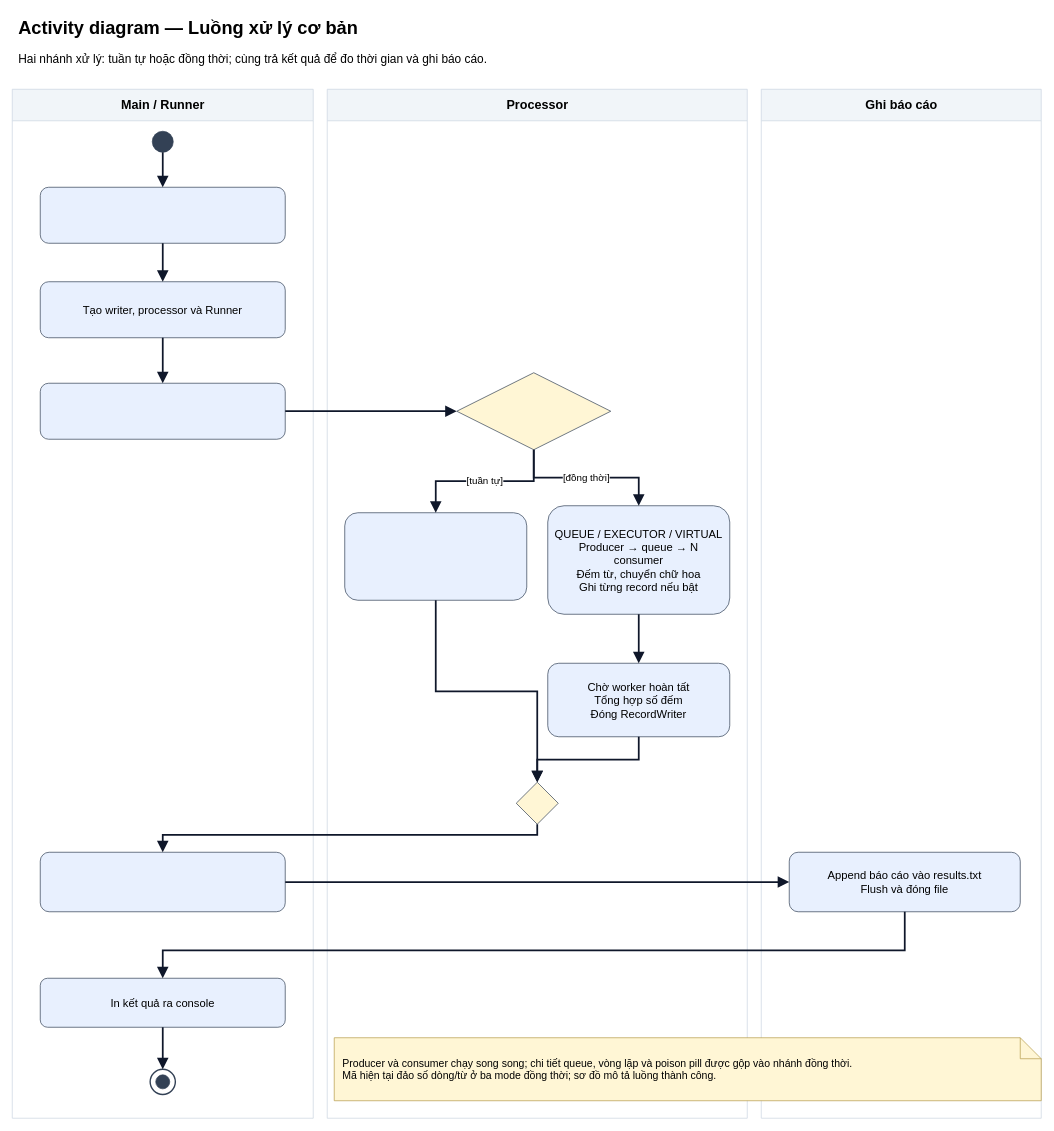
Image size: 1054x1131. Some labels were removed from this diagram. The shapes that lost their labels are listed below. From the top down, each one's centre as x and y in pixels, then its label:
At (162,215): "Đọc cấu hình CLI Mode, N, file vào/ra và cách ghi".
At (162,411): "Bắt đầu đo thời gian Gọi processor.process(file)".
At (533,411): "Chế độ xử lý?".
At (435,556): "BUFFERED / UNBUFFERED Đọc file tuần tự Đếm dòng và từ".
At (162,882): "Kết thúc đo thời gian Tạo BenchmarkResult".
